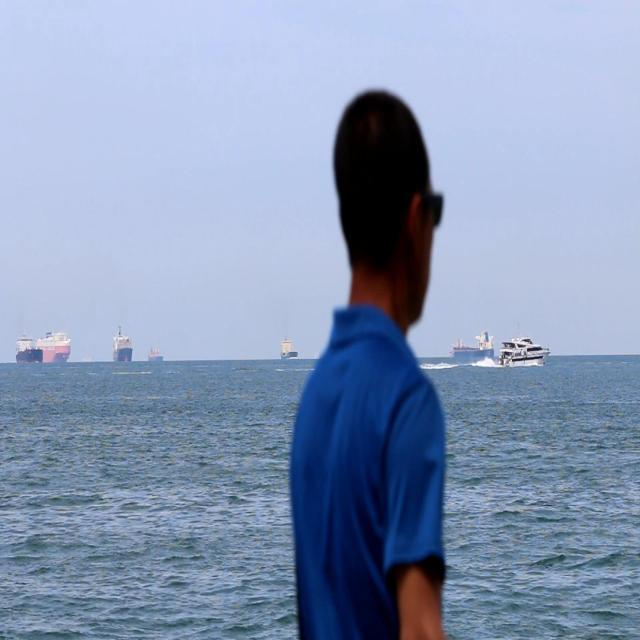CIV_Ship: (444, 315, 494, 363), (492, 332, 554, 369), (36, 321, 74, 364), (10, 328, 46, 366), (108, 326, 132, 364), (274, 330, 298, 365), (146, 342, 168, 364)
